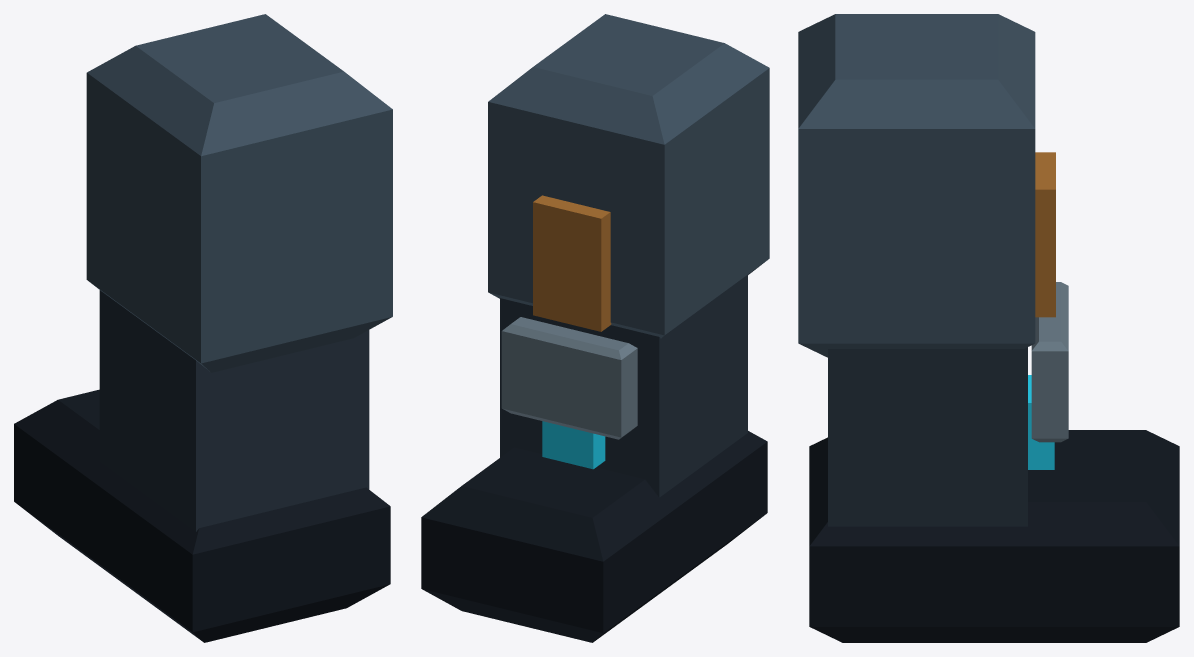
Rendered from vanguard_leg.obj.
3 renders of one model, left to right at view 1: azimuth 30°, elevation 25°; view 2: azimuth 150°, elevation 25°; view 3: azimuth 270°, elevation 25°, orthographic. The views are drawn at different scales.
Parts seen in each view (by area): view 1: vanguard_armoured_leg; view 2: vanguard_armoured_leg; view 3: vanguard_armoured_leg.
Boxes of the visible parts, x1,y1,x2,y2 form: vanguard_armoured_leg: (14, 14, 392, 642); vanguard_armoured_leg: (421, 14, 769, 642); vanguard_armoured_leg: (798, 14, 1179, 642).
Bounding box in the file's own units: 0.32 × 0.835 × 0.515.
